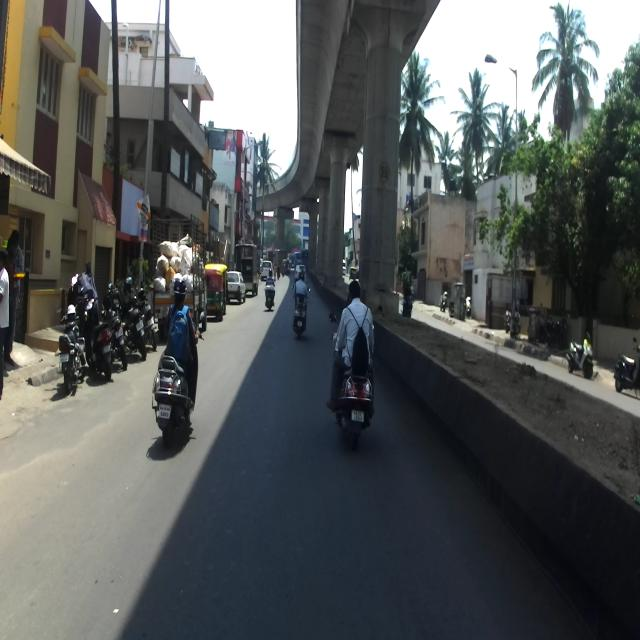motorcycle ahead at: (329, 340, 382, 448), (151, 348, 197, 443), (56, 301, 80, 387)
